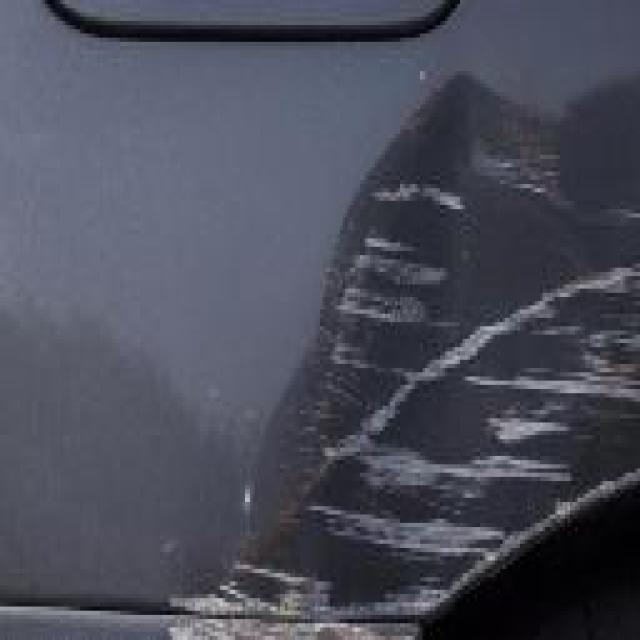Fender: (163, 74, 639, 617)
